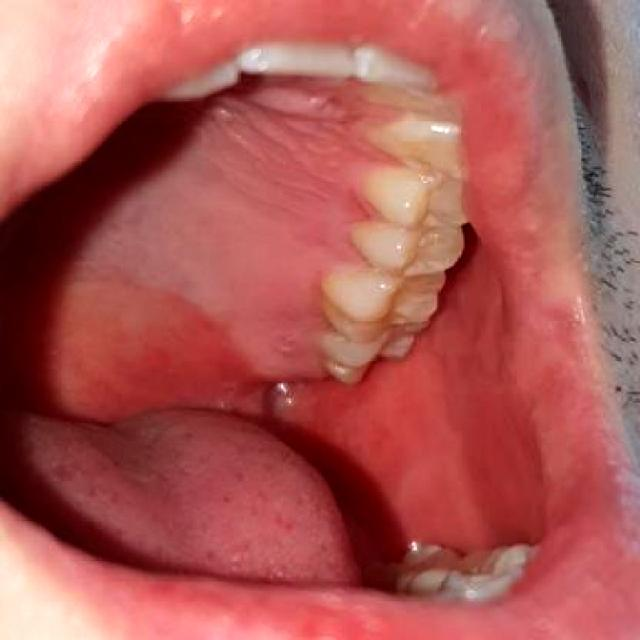Plaque: (295, 241, 347, 330)
